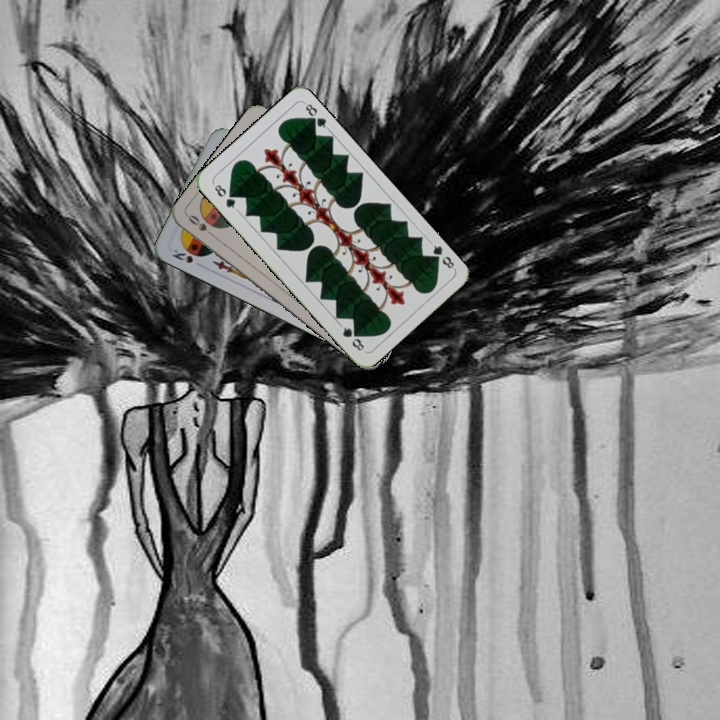G8: (426, 238, 458, 272), (209, 180, 240, 213)
SK: (168, 245, 206, 270)
SO: (184, 210, 219, 241)
